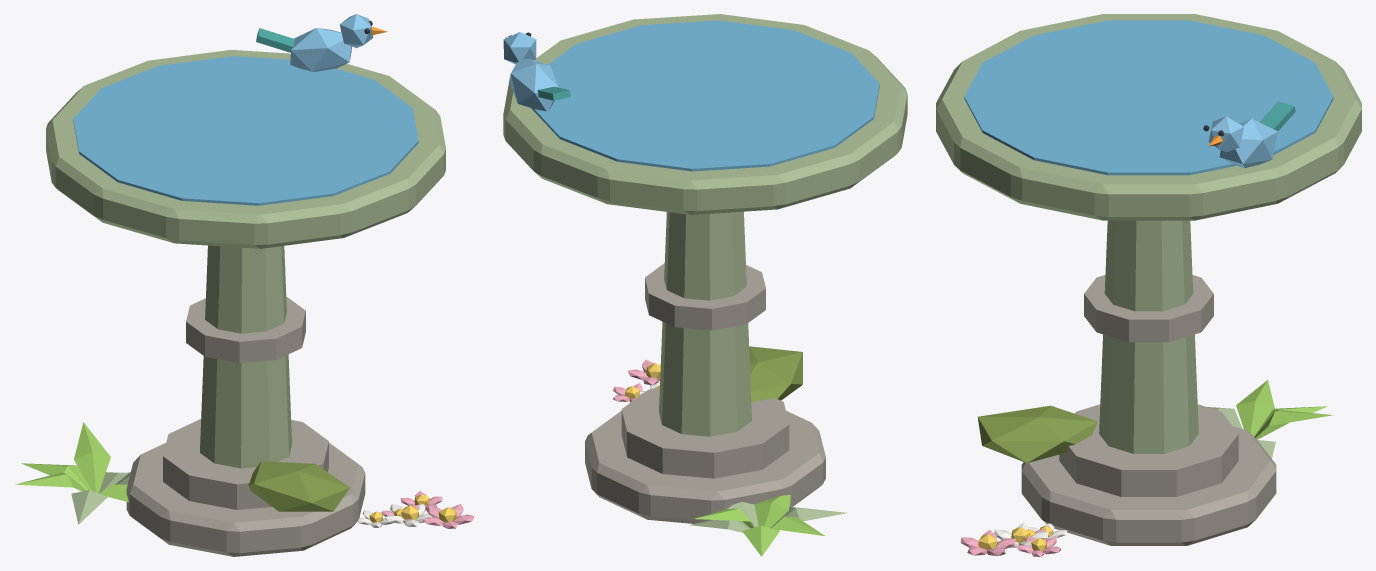
File: bird_bath.glb
3 renders of one model, left to right at view 1: azimuth 30°, elevation 25°; view 2: azimuth 150°, elevation 25°; view 3: azimuth 270°, elevation 25°, orthographic. The views are drawn at different scales.
Parts seen in each view (by area): view 1: Bird Bath; view 2: Bird Bath; view 3: Bird Bath.
Part boxes in pixels (x1,y1,x2,y2): Bird Bath: [15, 14, 474, 556]; Bird Bath: [503, 14, 907, 556]; Bird Bath: [936, 14, 1361, 556].
Size of the model in its own units: 0.8485 by 1.01 by 0.8533.
1 material, 1 textured.
